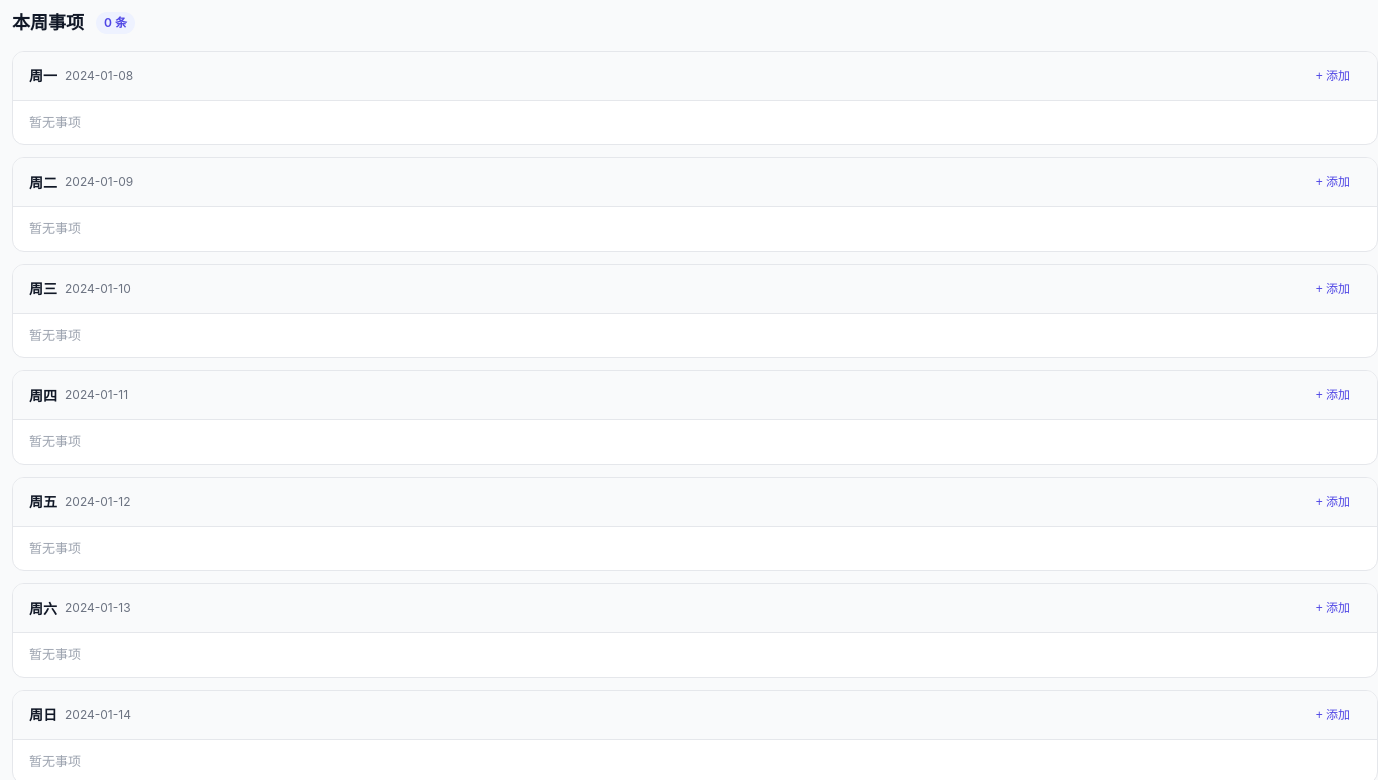
Test case: RecordList › 输入内容后提交按钮应可用
The image size is (1378, 780).
Click the button with test id "add-record-btn-2024-01-08" at (1333, 76), box [1305,64,1361,88]
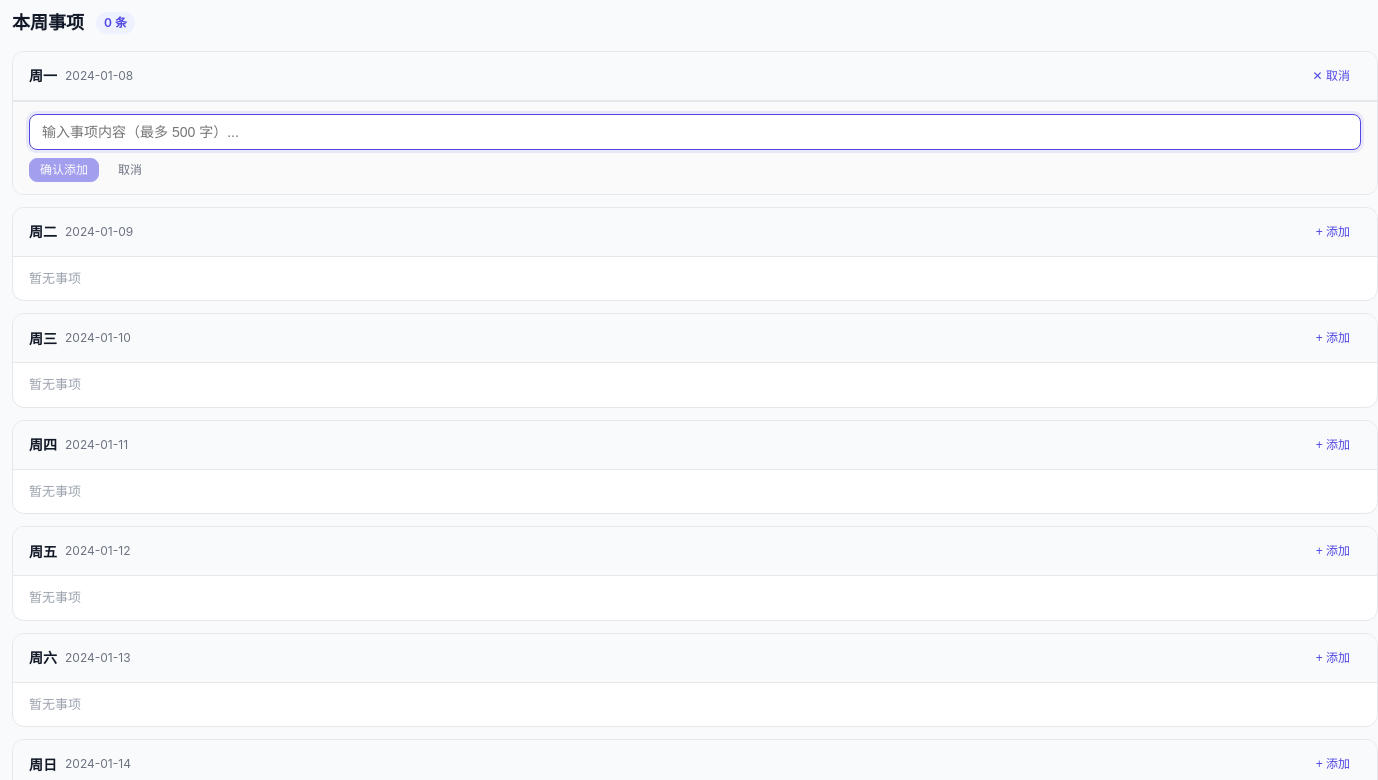
Type "测试事项" into the field with test id "new-record-input" at (695, 132), box [29,114,1361,150]
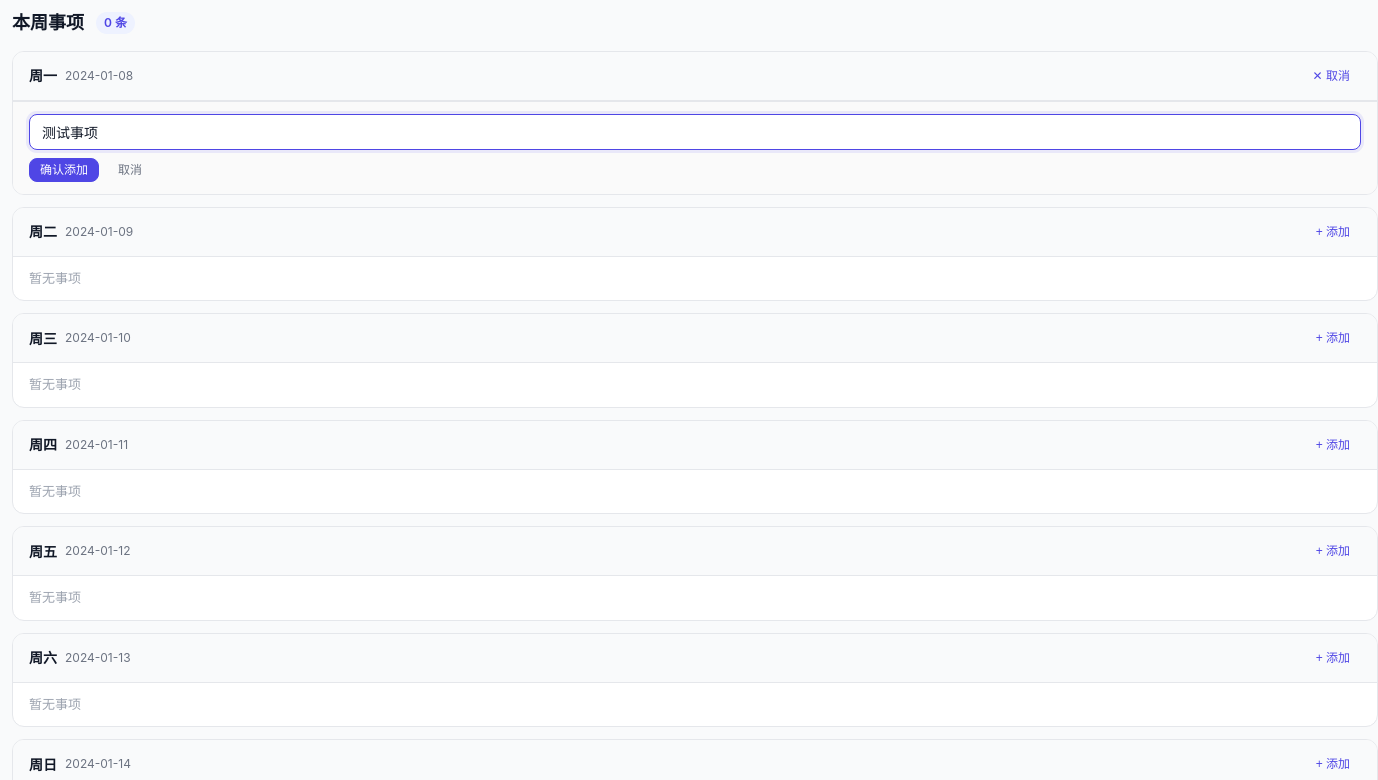
Expected: the button with test id "submit-record-btn" is enabled, [29,158,99,182]
